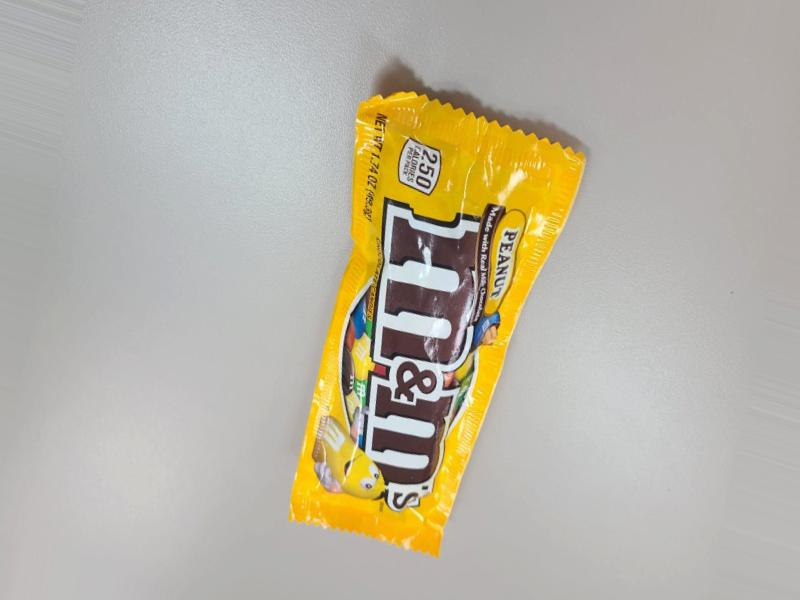m&m: (350, 63, 568, 559)
